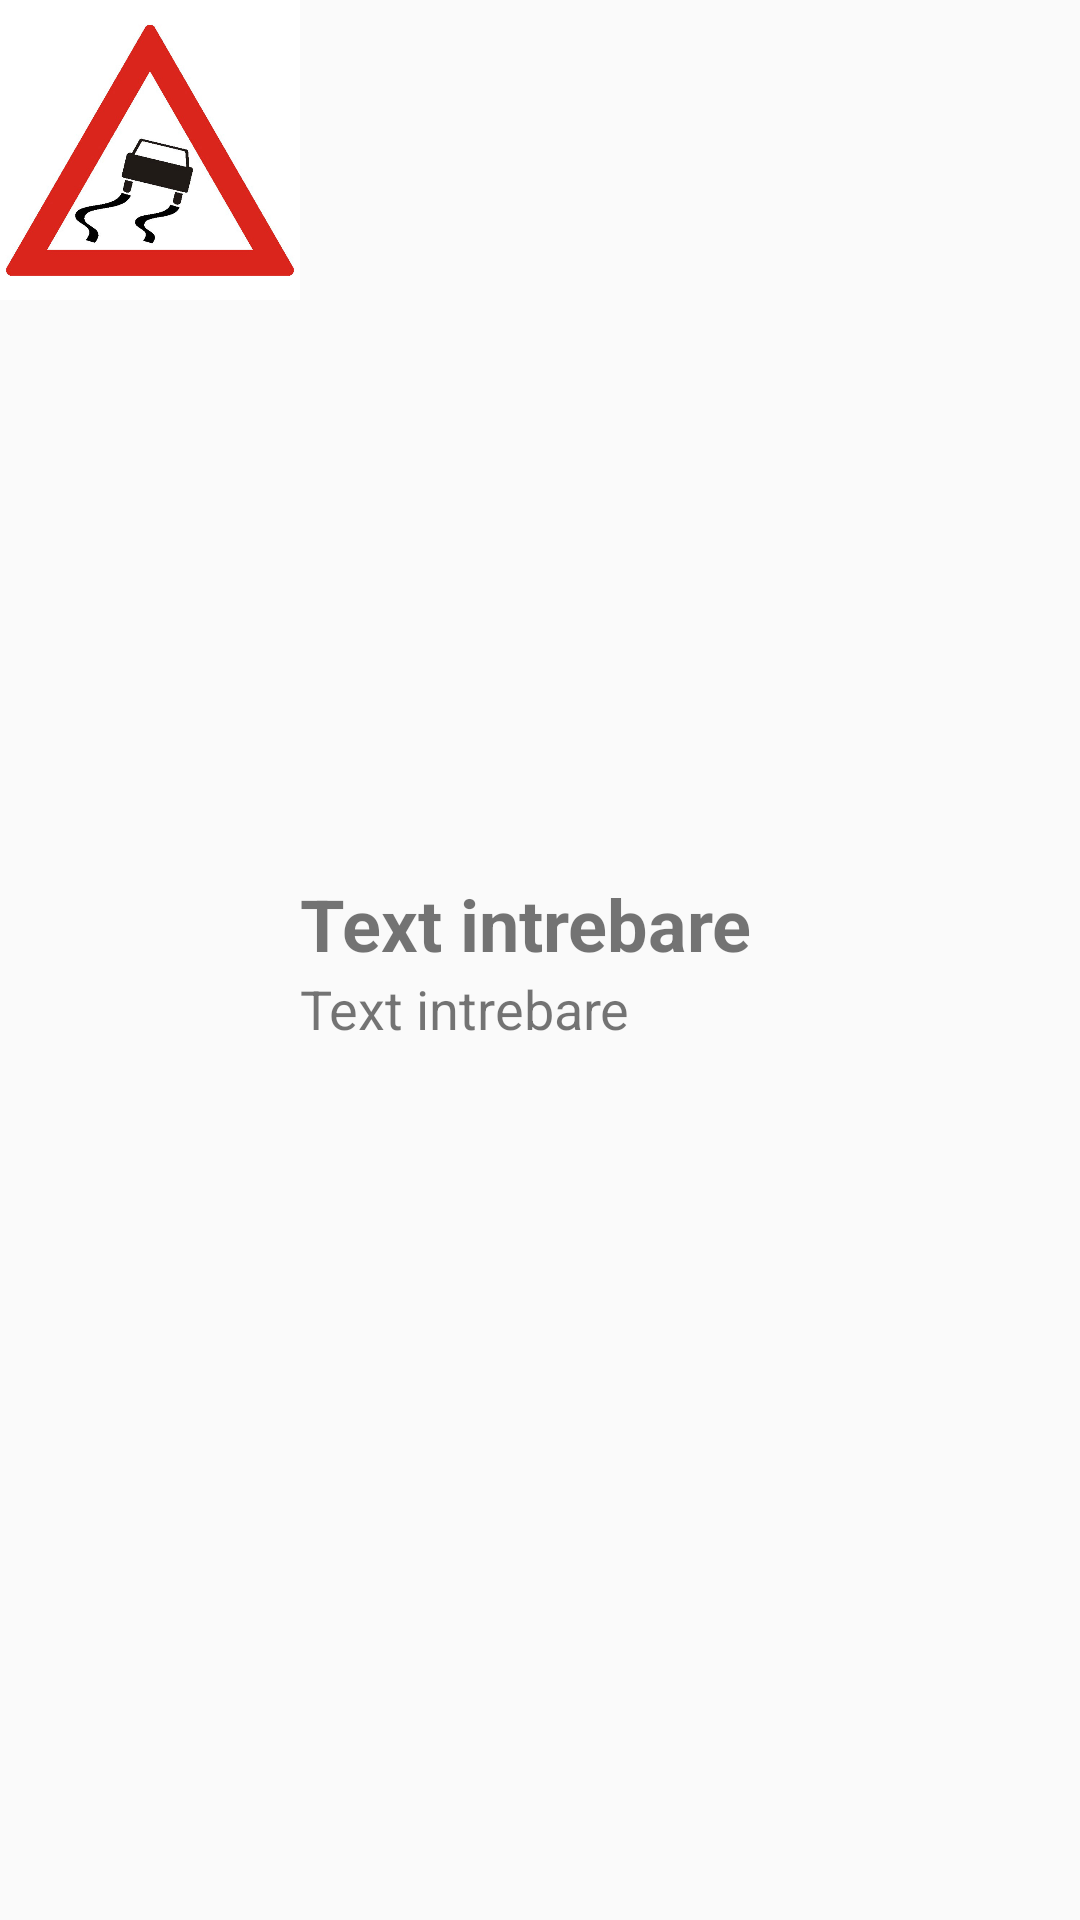

Locate icon controls on the screen. Image size 1080×1920, boxes as box=[x1, y1, x2, y2].
drum alunecos: box=[6, 25, 294, 276]
